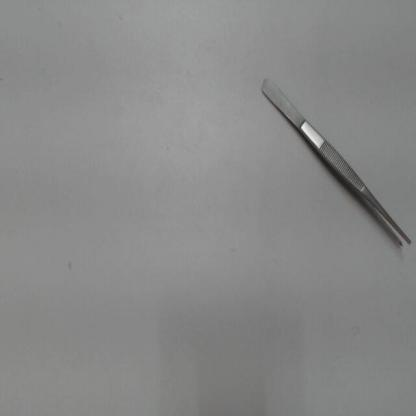Gillies Toothed Dissector: (255, 62, 415, 260)
